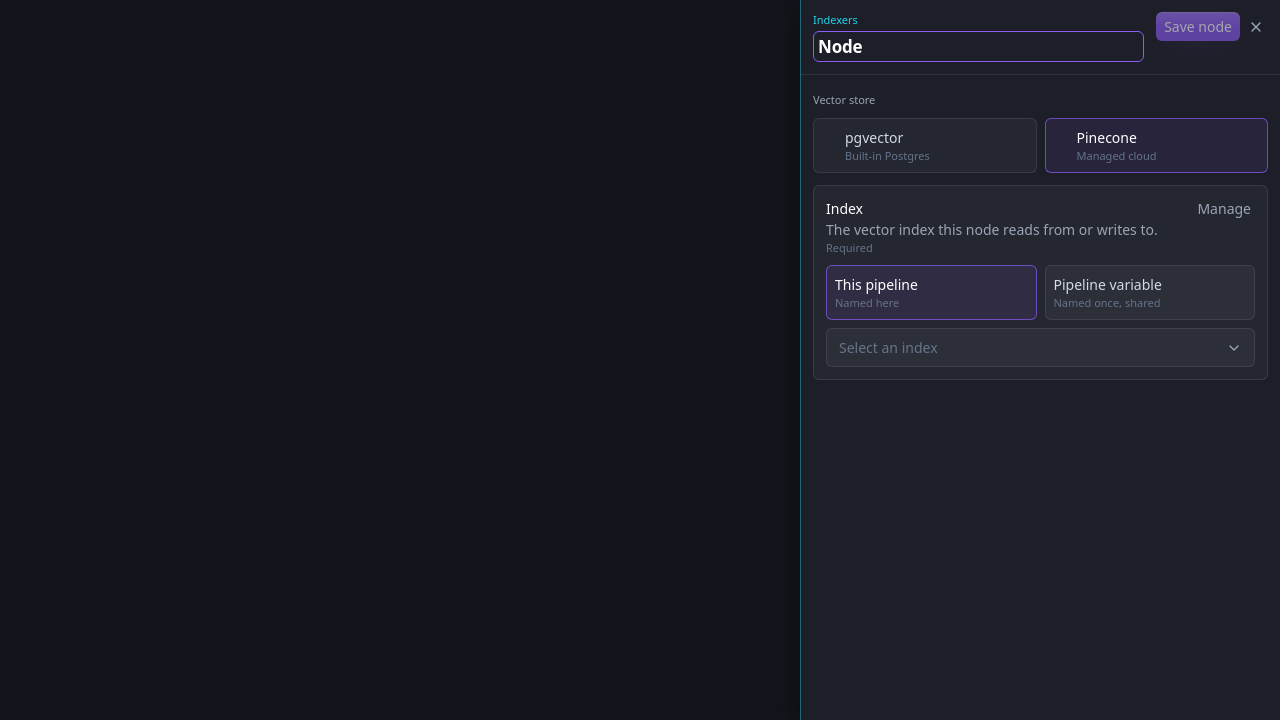
it: NodeEditorDrawer › keeps focus in the index registry opened from the create sentinel
The image size is (1280, 720).
Click the dropdown named "Vector index" at (888, 348), box [826,328,1255,367]
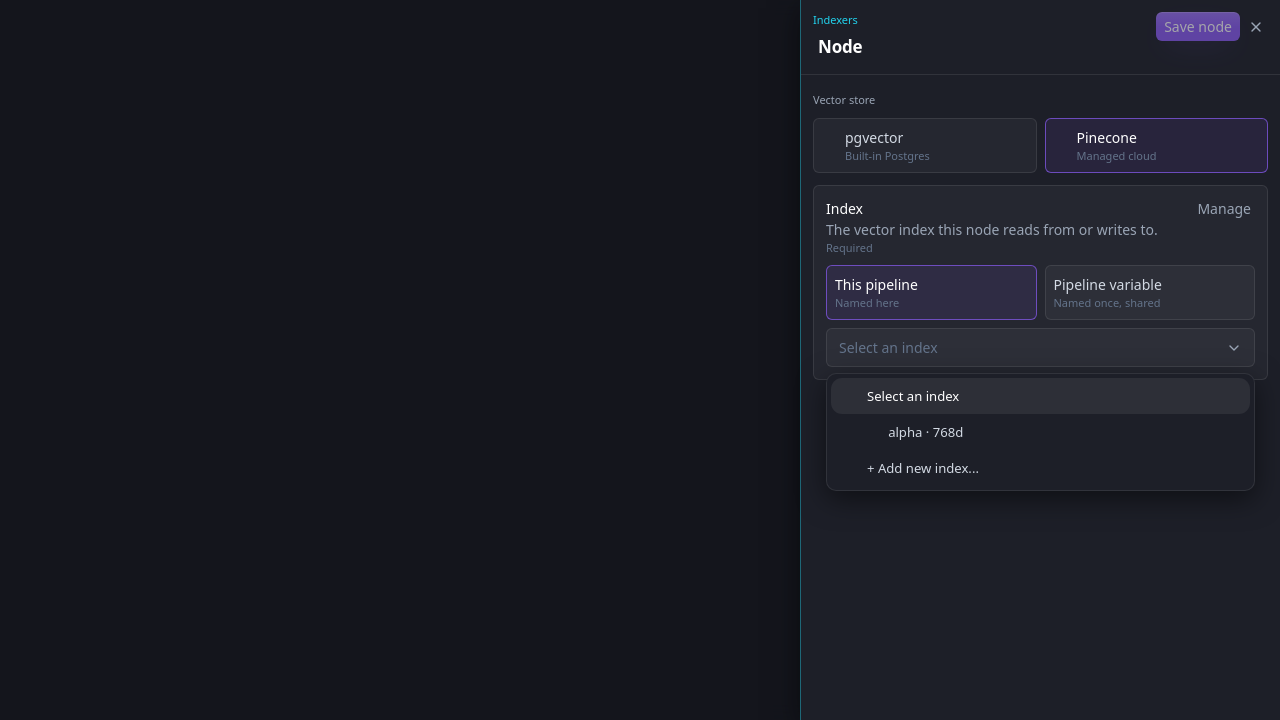
Click the option "+ Add new index..." at (923, 468), box [867,459,979,477]
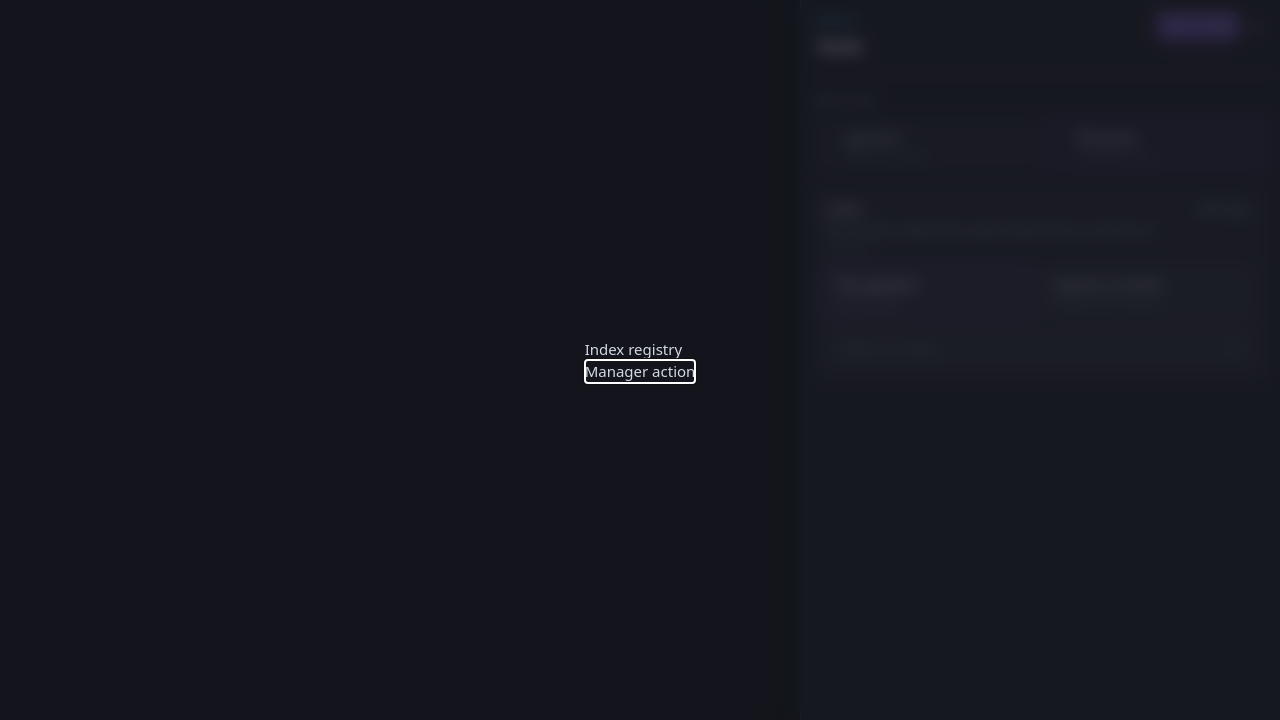
Now the dialog "Index registry" is shown, box [585,338,695,382]
